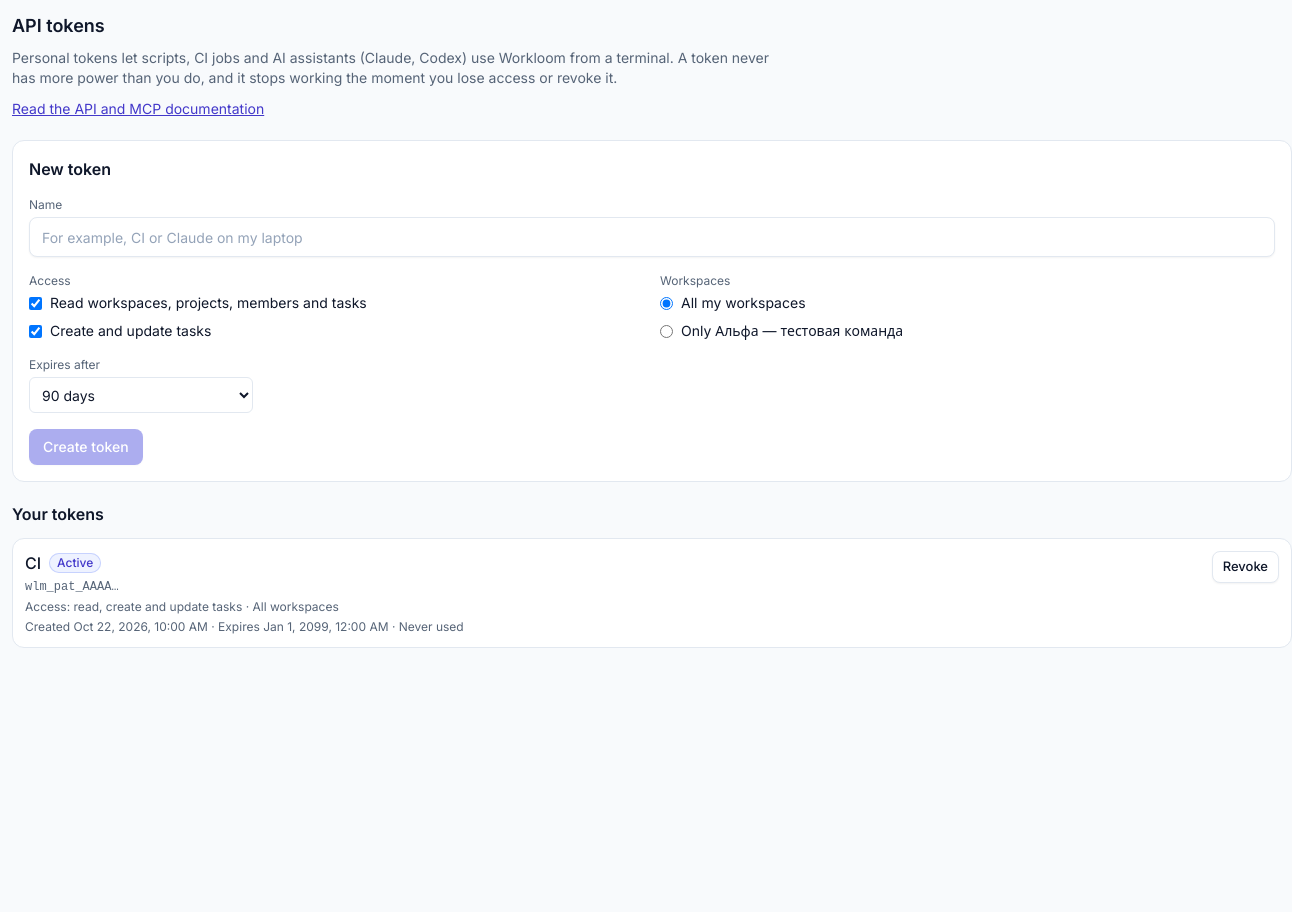
Scenario: API tokens panel › revokes an active token and offers no action for a revoked one
Click the button with aria-label "Revoke token CI": [1245, 567] box left=1212, top=551, right=1279, bottom=583
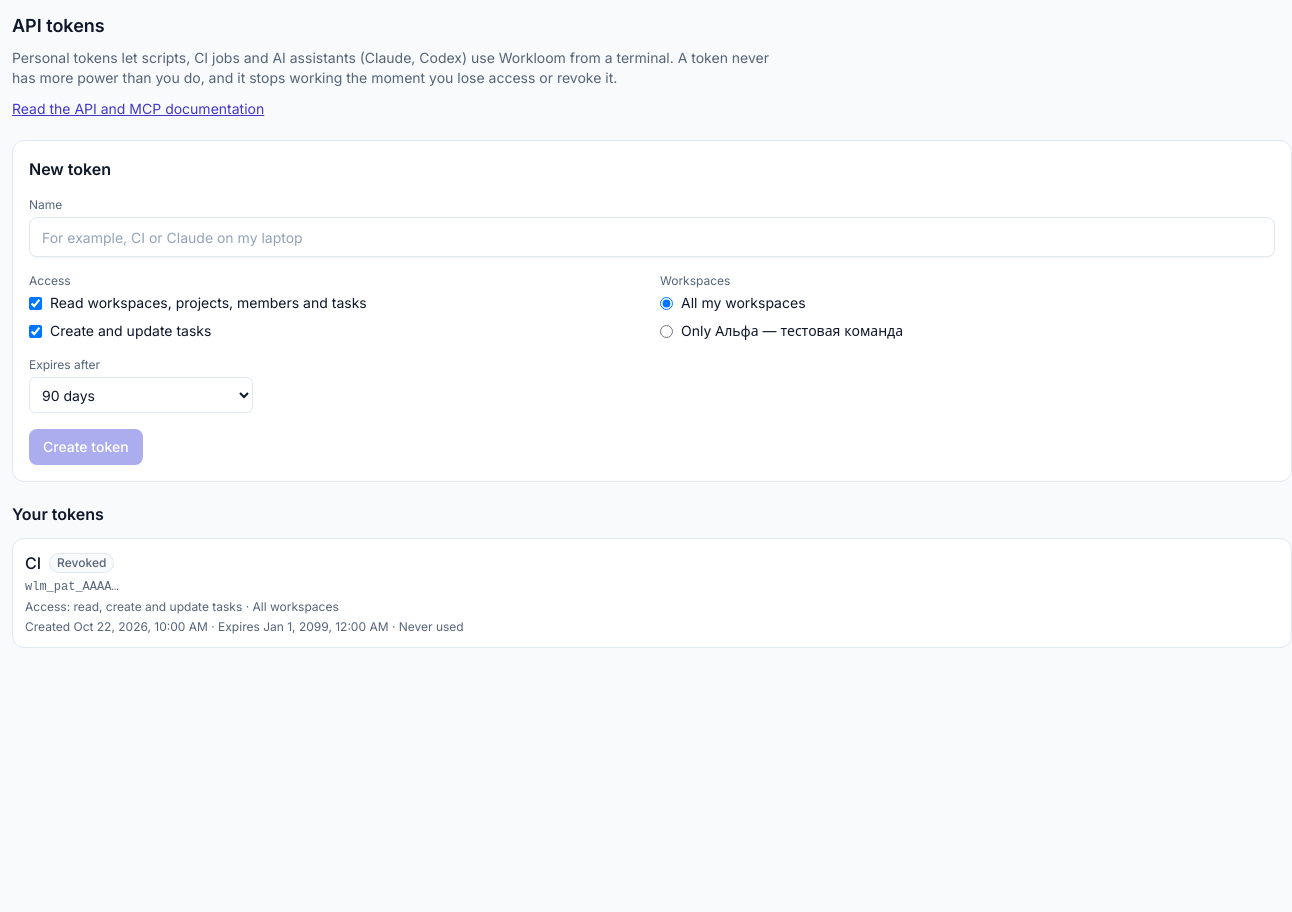
Expected: the text "Revoked" is shown, left=49, top=553, right=114, bottom=573
